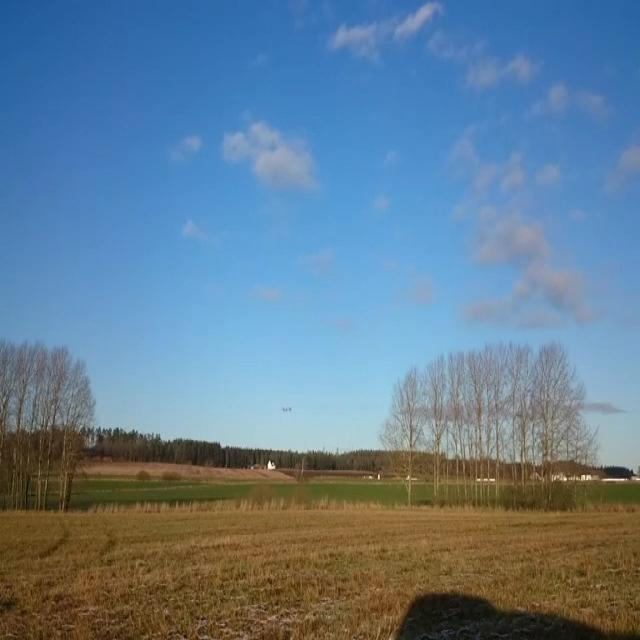drone: (282, 407, 292, 414)
